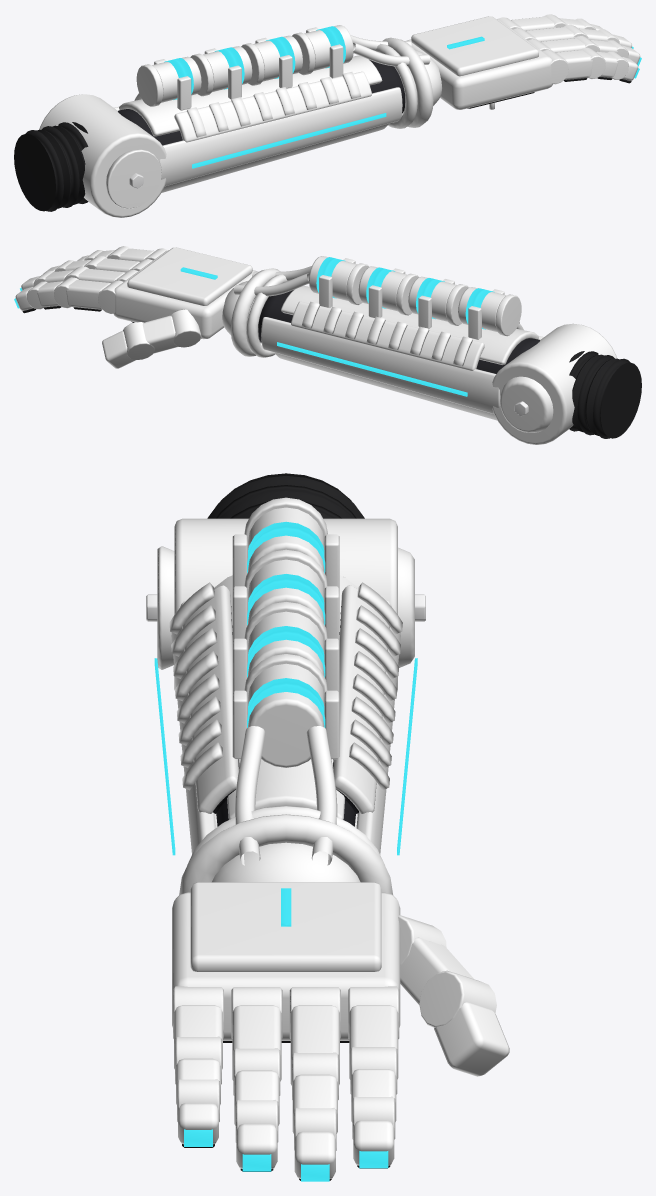
File: arm_laser.glb
3 renders of one model, top to bottom at view 1: azimuth 30°, elevation 25°; view 2: azimuth 150°, elevation 25°; view 3: azimuth 270°, elevation 25°, orthographic. The views are drawn at different scales.
Visible parts, largest first — view 1: side_plate.001, elbow_hinge, bellows, palm_back, palm, vent.001, cell_bed, elbow_cap, wrist_ring, core, ventral, wrist_coil (+35 smaller); view 2: side_plate, elbow_hinge, bellows, palm_back, vent, cell_bed, palm, elbow_cap.001, wrist_ring, core, ventral, wrist_coil (+39 smaller); view 3: palm_back, elbow_hinge, palm, wrist_ring, vent, vent.001, cell.003, wrist_ball, bellows, phalanx.013, cell_bed, knuckle.013 (+44 smaller).
Part boxes in pixels (box(x1,y1,x2,y2)): side_plate.001: box(159, 87, 402, 186); elbow_hinge: box(39, 94, 166, 217); bellows: box(14, 122, 88, 211); palm_back: box(411, 16, 538, 76); palm: box(406, 19, 552, 109); vent.001: box(174, 71, 371, 142); cell_bed: box(119, 55, 382, 136); elbow_cap: box(106, 149, 161, 208); wrist_ring: box(382, 37, 433, 127); core: box(118, 60, 405, 145); ventral: box(161, 123, 388, 192); wrist_coil: box(375, 43, 417, 128); side_plate: box(261, 317, 500, 413); elbow_hinge: box(492, 323, 617, 444); bellows: box(569, 351, 641, 438); palm_back: box(127, 247, 252, 305); vent: box(291, 301, 484, 370); cell_bed: box(281, 286, 538, 364); palm: box(113, 250, 257, 339); elbow_cap.001: box(500, 376, 553, 432); wrist_ring: box(230, 268, 280, 356); core: box(258, 290, 539, 373); ventral: box(274, 352, 497, 420); wrist_coil: box(246, 274, 287, 357); palm_back: box(190, 882, 381, 971); elbow_hinge: box(174, 518, 397, 690); palm: box(172, 892, 400, 1040); wrist_ring: box(179, 814, 392, 895); vent: box(333, 585, 389, 813); vent.001: box(182, 585, 238, 813); cell.003: box(248, 663, 324, 767); wrist_ball: box(212, 842, 360, 882); bellows: box(207, 473, 364, 518); phalanx.013: box(434, 1002, 509, 1076); cell_bed: box(214, 575, 357, 819); knuckle.013: box(419, 970, 496, 1027).
Size of the model in its own units: 0.5345 by 0.1045 by 0.1424.
